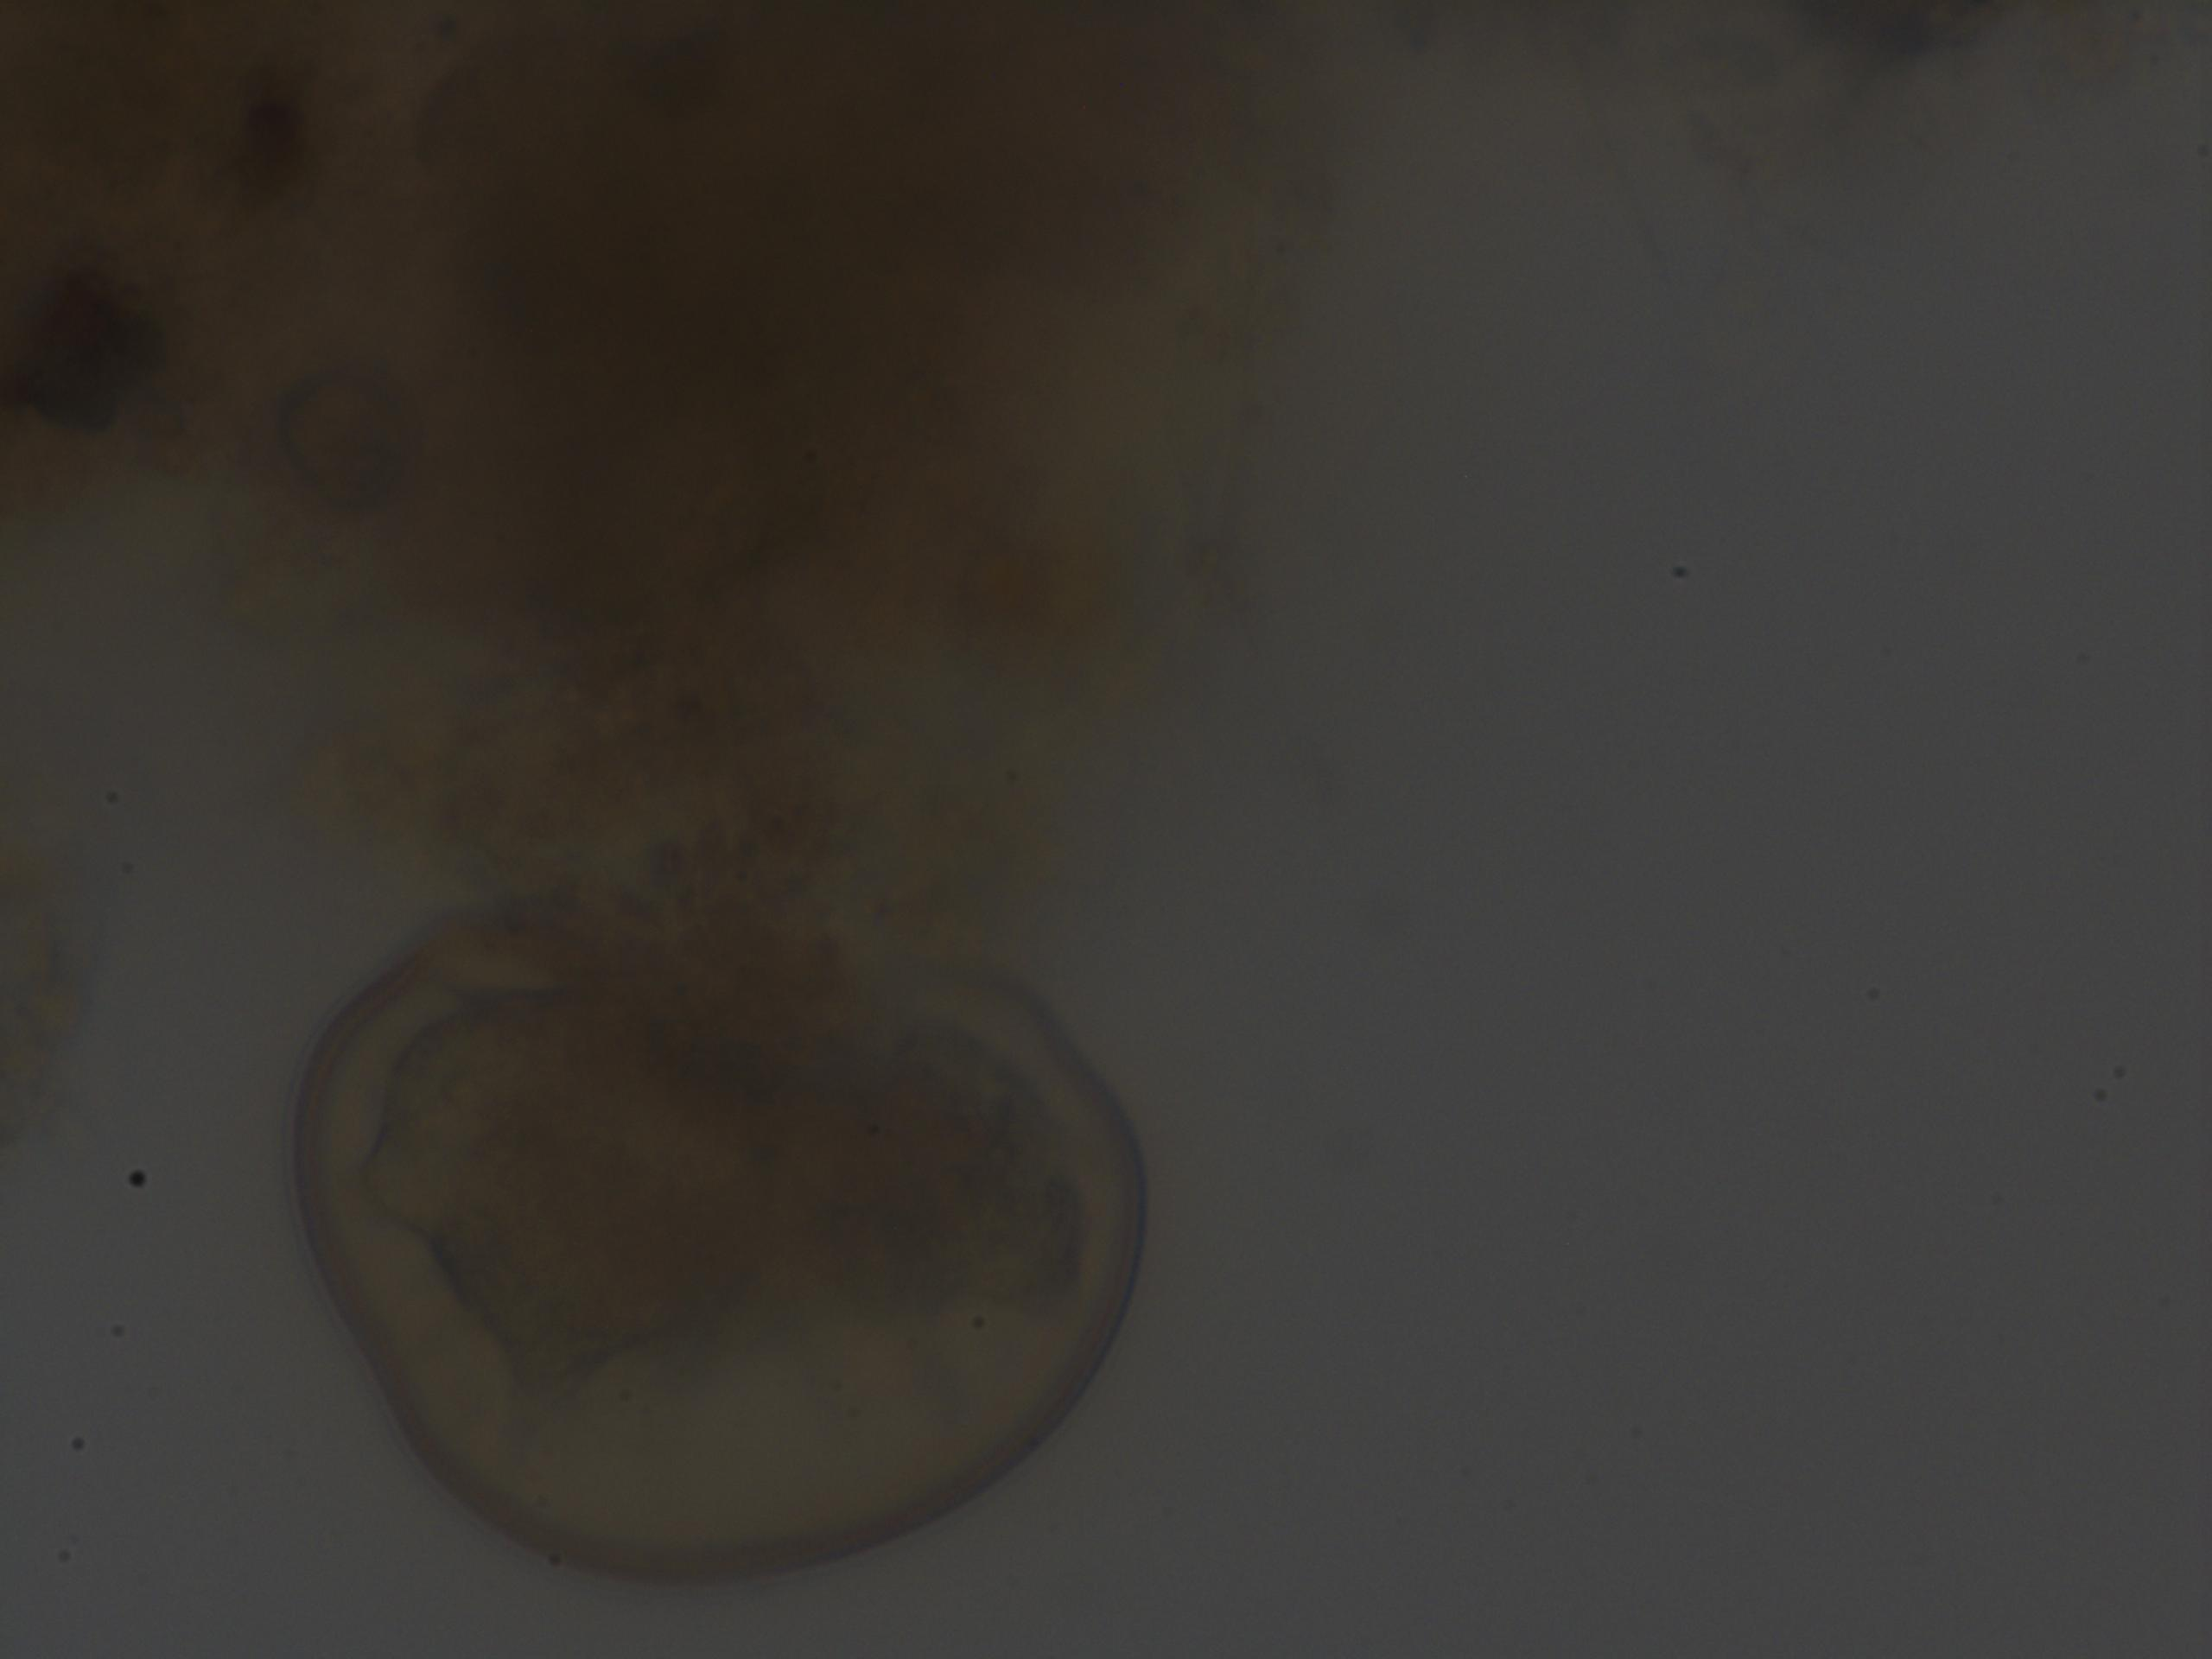protozoa: (275, 870, 1172, 1601)
